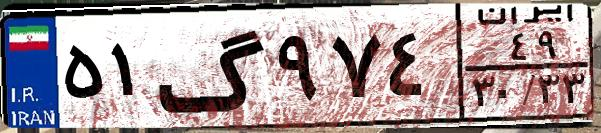0: (495, 70, 520, 125)
1: (110, 28, 156, 98)
3: (560, 70, 590, 125), (470, 70, 495, 125), (535, 70, 560, 125)
4: (385, 28, 445, 110), (508, 27, 537, 80)
5: (57, 26, 110, 100)
7: (330, 28, 385, 110)
9: (270, 28, 330, 110), (537, 27, 568, 80)
گ: (156, 12, 270, 120)
